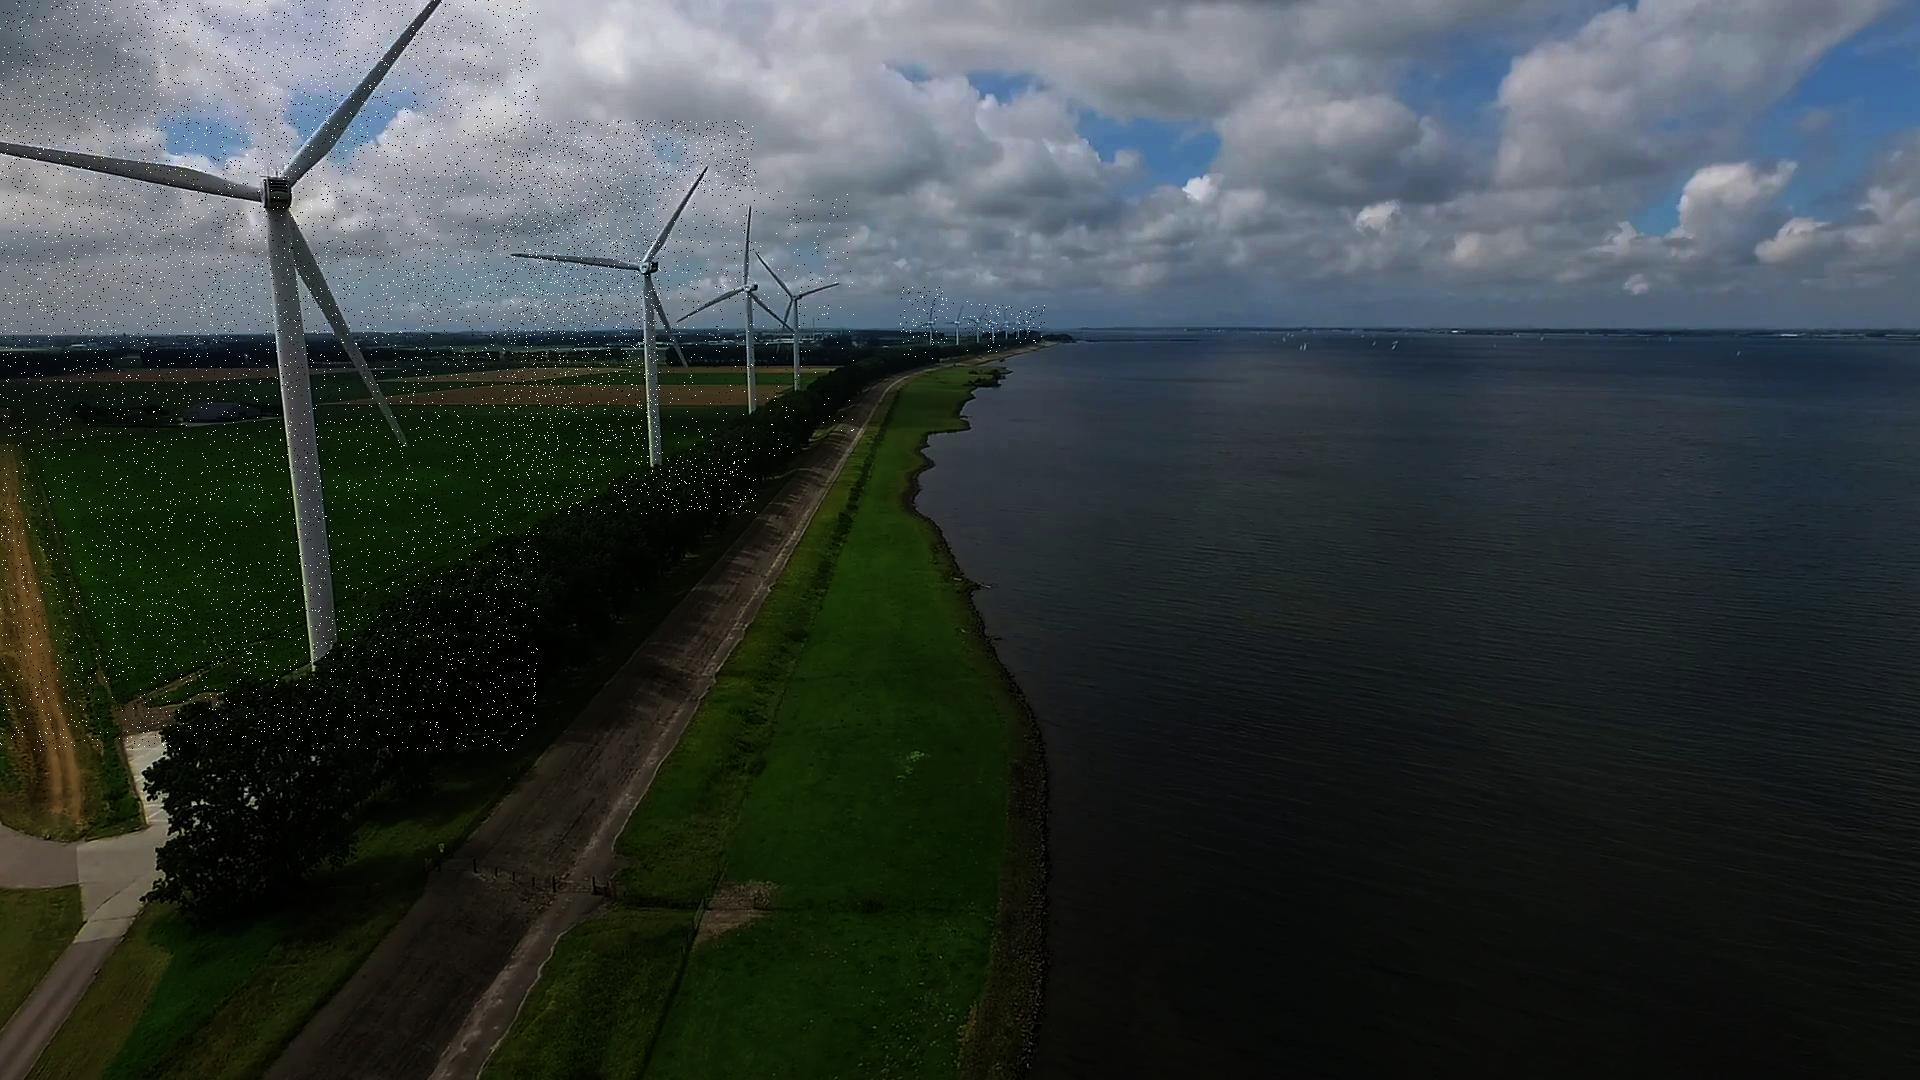turbine: (0, 0, 539, 752), (504, 120, 756, 514), (661, 191, 796, 456), (758, 194, 855, 438), (901, 287, 947, 359), (982, 303, 1010, 352), (947, 301, 971, 353), (967, 303, 992, 352), (1017, 306, 1044, 347), (1009, 307, 1027, 347), (1000, 310, 1018, 347)
